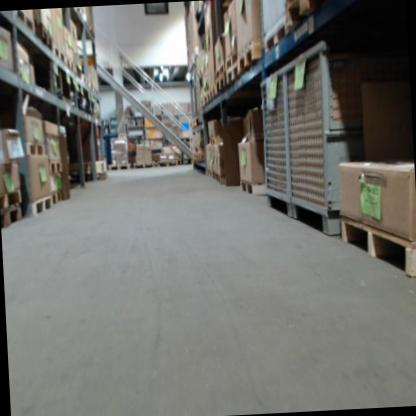pallet: (336, 213, 416, 280), (285, 0, 324, 30), (239, 39, 263, 76), (264, 25, 288, 52), (0, 204, 22, 230), (238, 177, 267, 195), (14, 9, 34, 34), (0, 189, 22, 209), (31, 196, 52, 216), (225, 60, 240, 87), (36, 24, 52, 49), (51, 43, 66, 67), (23, 139, 44, 154), (156, 158, 179, 169), (107, 161, 132, 171), (131, 160, 156, 170), (215, 73, 226, 93), (50, 190, 62, 205), (47, 162, 61, 173), (209, 86, 215, 100), (204, 91, 210, 103)
stillage: (282, 33, 415, 238), (257, 62, 295, 220)
